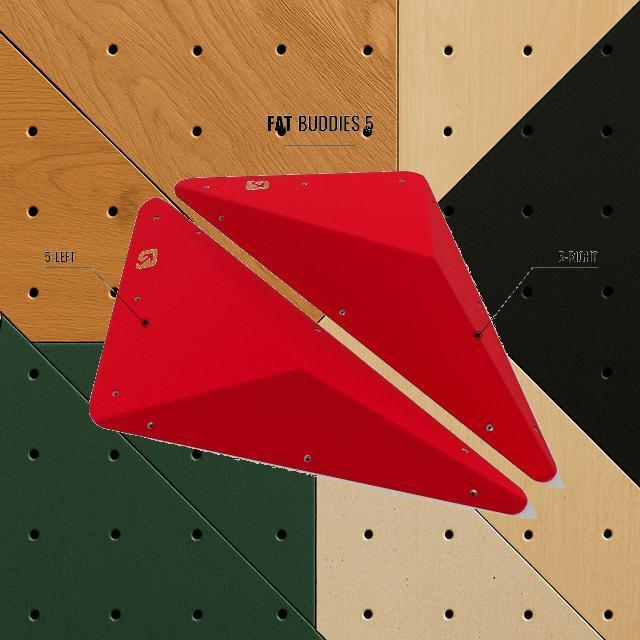Volume: (88, 196, 530, 516), (173, 170, 559, 482)
